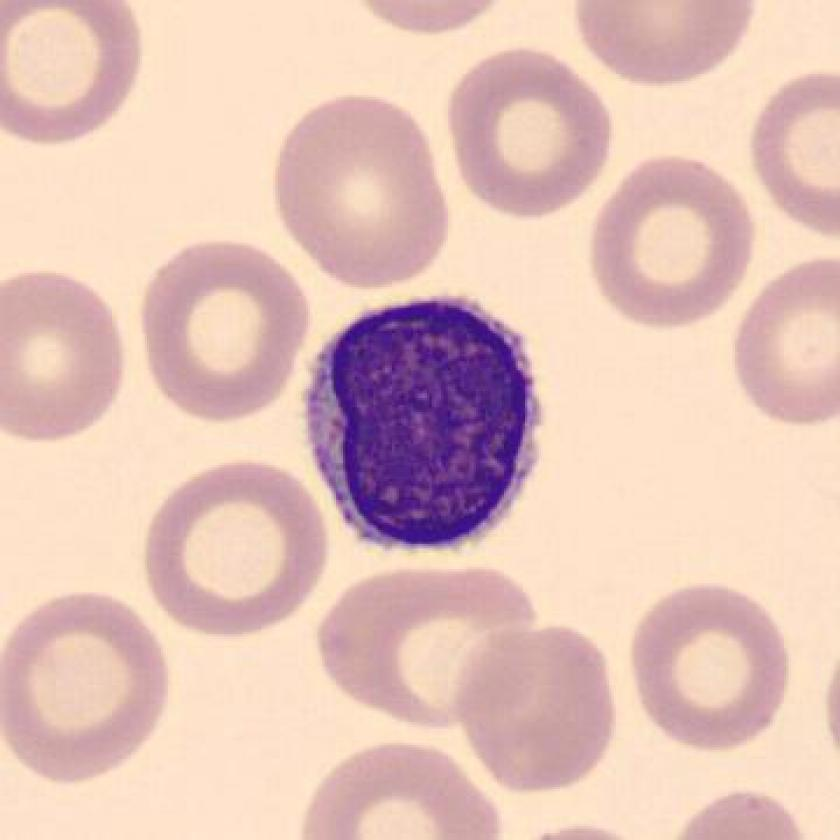lymphocyte: (283, 276, 566, 568)
